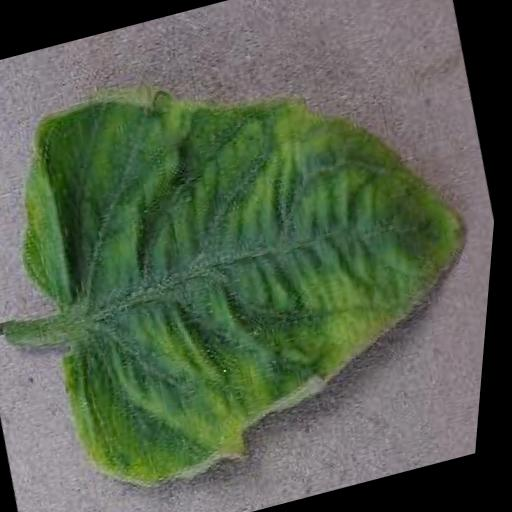Yellow Leaf Curl Virus: (0, 9, 511, 511)
